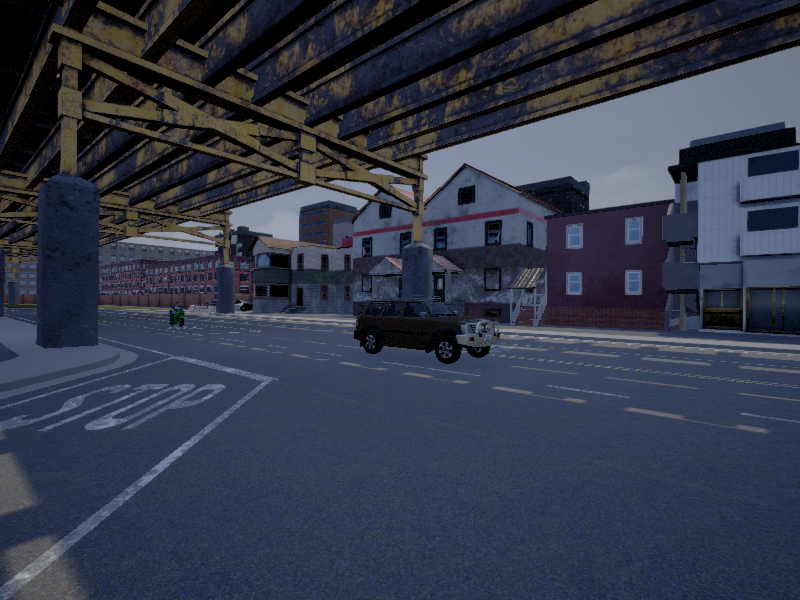benign: (355, 299, 501, 363)
